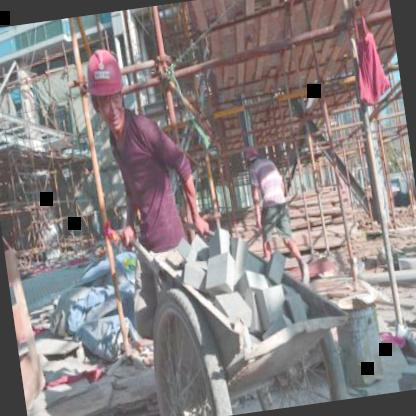helmet: (81, 44, 135, 133), (240, 139, 264, 172)
